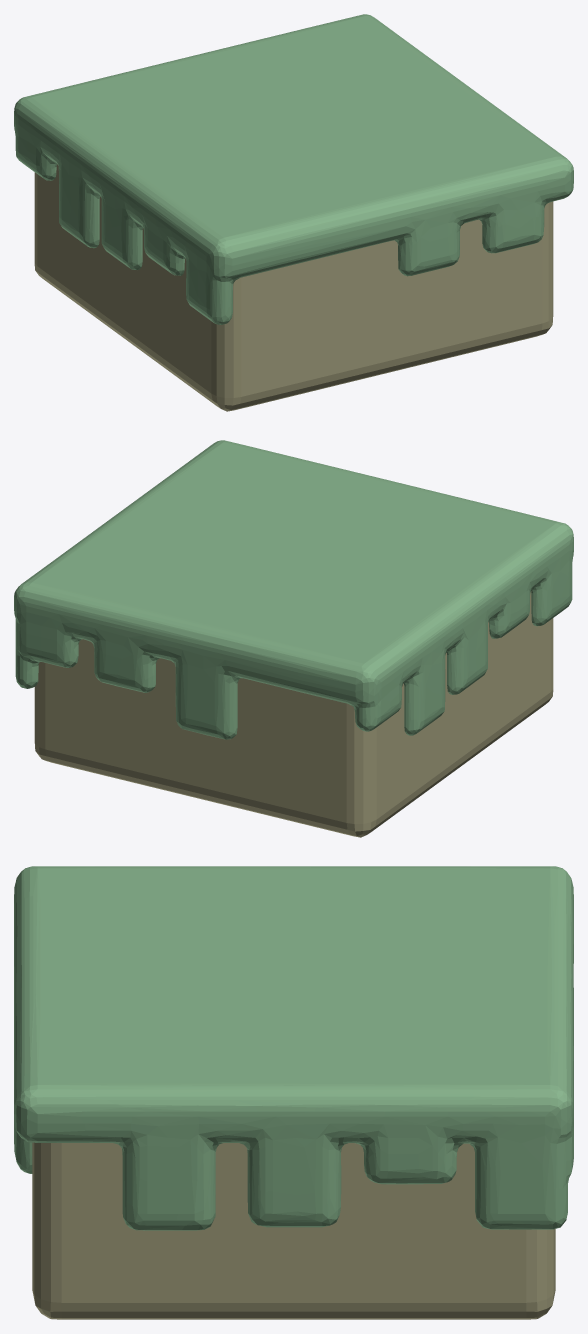
The model's file is Block_5_POGGERS.fbx.
The picture shows the model from 3 angles, top to bottom: view 1: azimuth 30°, elevation 25°; view 2: azimuth 150°, elevation 25°; view 3: azimuth 270°, elevation 25°; orthographic projection. The views are drawn at different scales.
Parts seen in each view (by area): view 1: GRASS9:Mesh1; view 2: GRASS9:Mesh1; view 3: GRASS9:Mesh1.
Part boxes in pixels (x1,y1,x2,y2): GRASS9:Mesh1: (14,14,573,411); GRASS9:Mesh1: (14,440,573,837); GRASS9:Mesh1: (14,866,573,1319).
Size of the model in its own units: 107 by 51.1 by 107.
